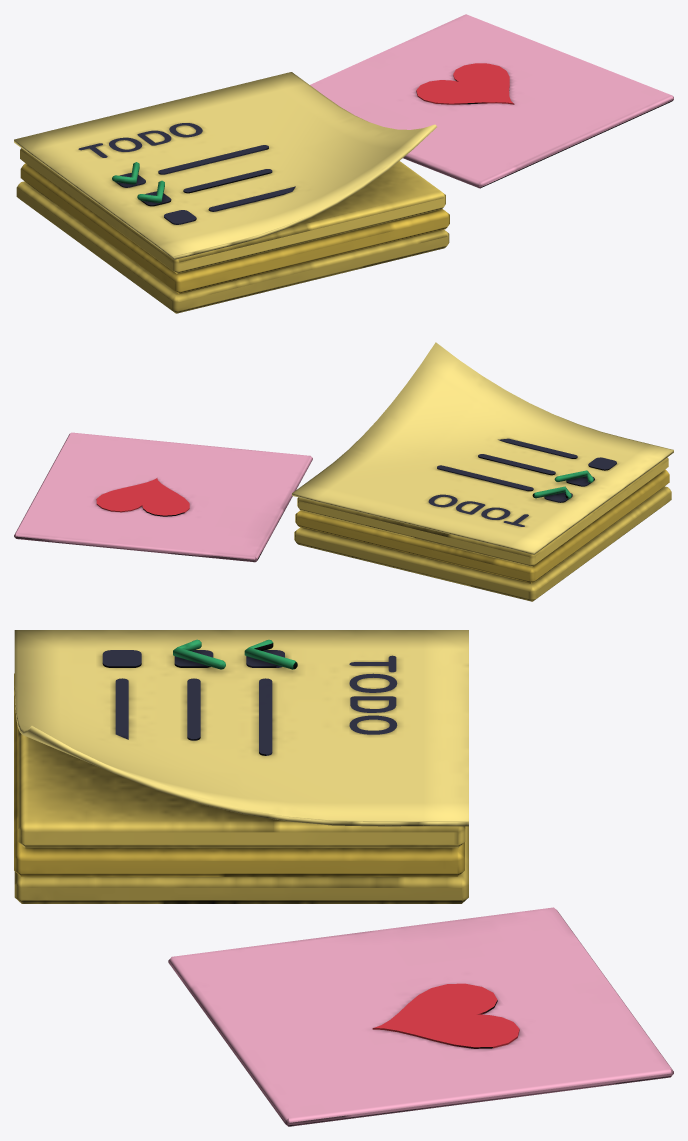
The model's file is sticky_notes.glb.
The picture shows the model from 3 angles, top to bottom: view 1: azimuth 30°, elevation 25°; view 2: azimuth 150°, elevation 25°; view 3: azimuth 270°, elevation 25°; orthographic projection. The views are drawn at different scales.
Parts seen in each view (by area): view 1: sticky_notes; view 2: sticky_notes; view 3: sticky_notes.
Part boxes in pixels (x1,y1,x2,y2): sticky_notes: [14, 14, 673, 313]; sticky_notes: [14, 342, 673, 601]; sticky_notes: [14, 630, 673, 1126].
Size of the model in its own units: 0.1633 by 0.0323 by 0.1104.
Materials: 7 (7 with a texture image).
